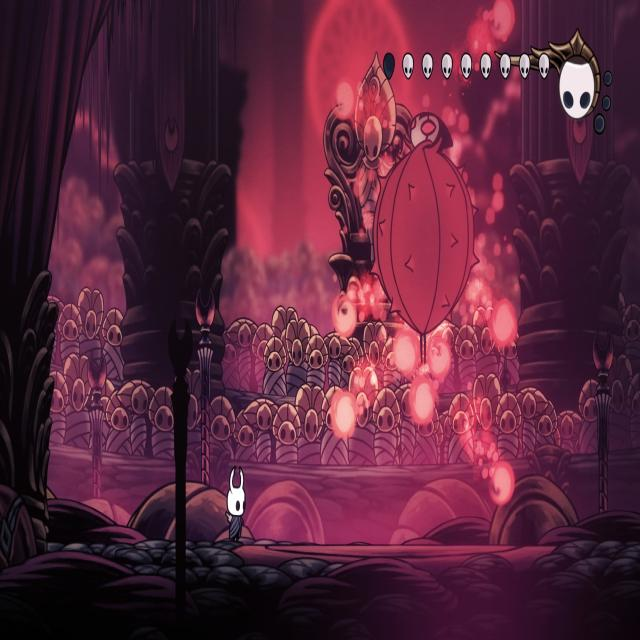Player: (222, 461, 250, 542)
Pufferfish: (366, 105, 482, 369)
Tiny Fireballs: (490, 298, 518, 347), (394, 327, 420, 378), (409, 376, 436, 424), (330, 389, 356, 438), (331, 291, 358, 338), (489, 460, 515, 504), (489, 0, 515, 42), (428, 338, 451, 380), (336, 80, 354, 116)
